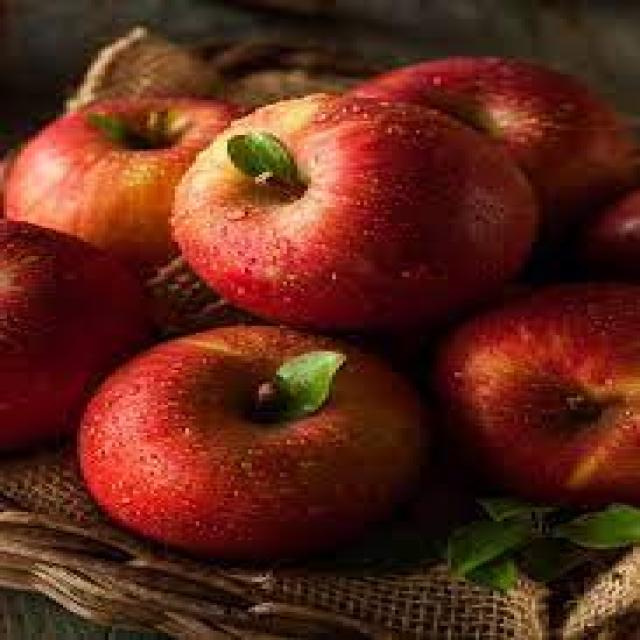apple: (156, 85, 556, 336)
